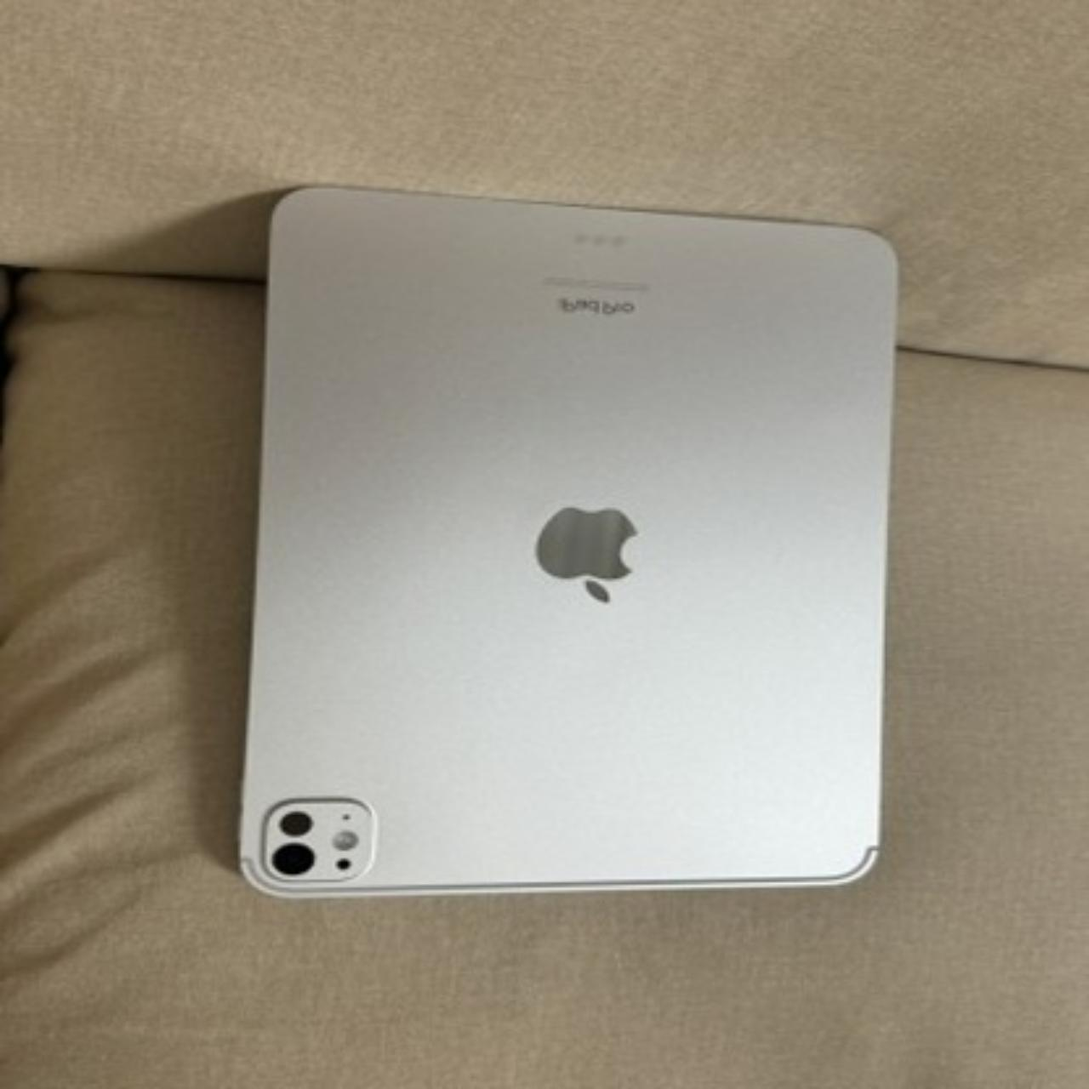Tablet_PC: (220, 181, 921, 918)
